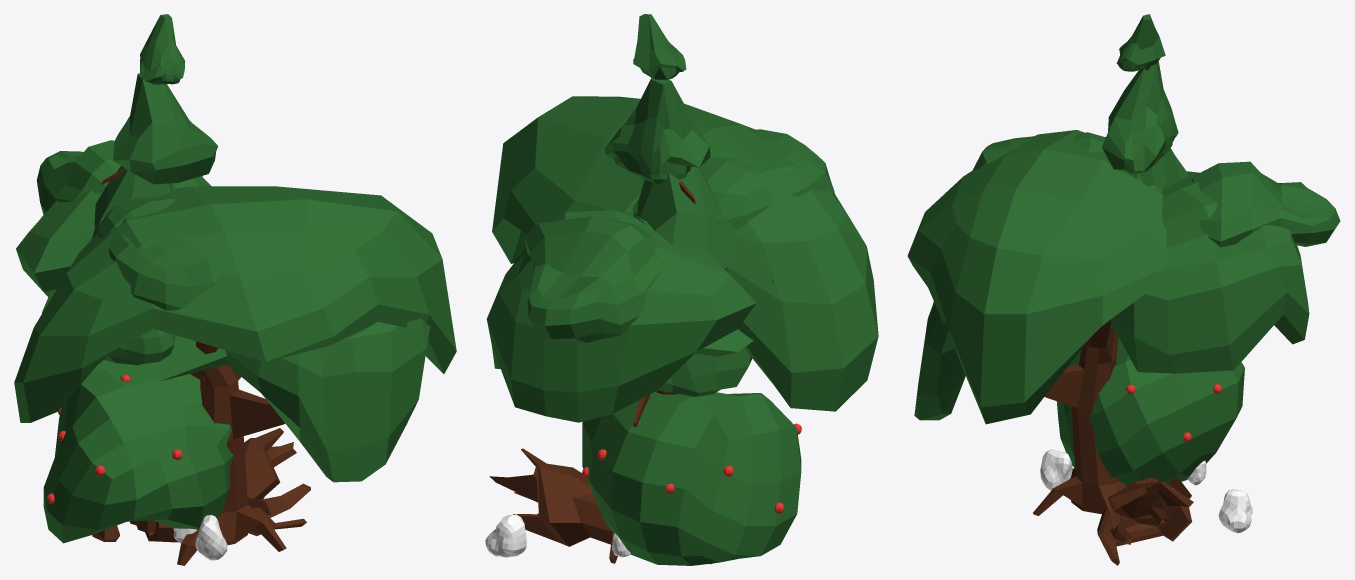
The model's file is nature-transformed.glb.
3 renders of one model, left to right at view 1: azimuth 30°, elevation 25°; view 2: azimuth 150°, elevation 25°; view 3: azimuth 270°, elevation 25°, orthographic. The views are drawn at different scales.
Parts seen in each view (by area): view 1: tree3, bush, tree1, tree2, trunk, rock4; view 2: tree3, bush, tree2, tree1, trunk, rock2; view 3: tree3, bush, tree2, tree1, trunk, rock2, rock4.
Part boxes in pixels (x1,y1,x2,y2): tree3: [14, 176, 456, 565]; bush: [43, 368, 233, 543]; tree1: [42, 14, 229, 532]; tree2: [36, 140, 231, 525]; trunk: [145, 428, 310, 542]; rock4: [195, 515, 227, 560]; tree3: [486, 96, 878, 563]; bush: [582, 391, 801, 565]; tree2: [524, 129, 834, 394]; tree1: [605, 14, 753, 426]; trunk: [489, 448, 612, 546]; rock2: [485, 514, 526, 557]; tree3: [907, 130, 1309, 529]; bush: [1056, 337, 1244, 484]; tree2: [973, 132, 1340, 487]; tree1: [1102, 14, 1189, 329]; trunk: [1097, 477, 1193, 565]; rock2: [1218, 489, 1252, 533]; rock4: [1040, 449, 1072, 490].
Size of the model in its own units: 3.65 by 4.65 by 3.69.
